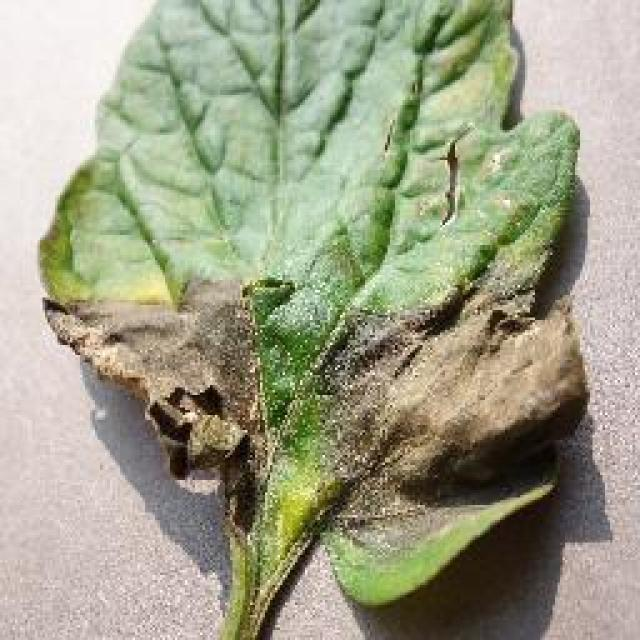leaf blight: (36, 0, 589, 639)
